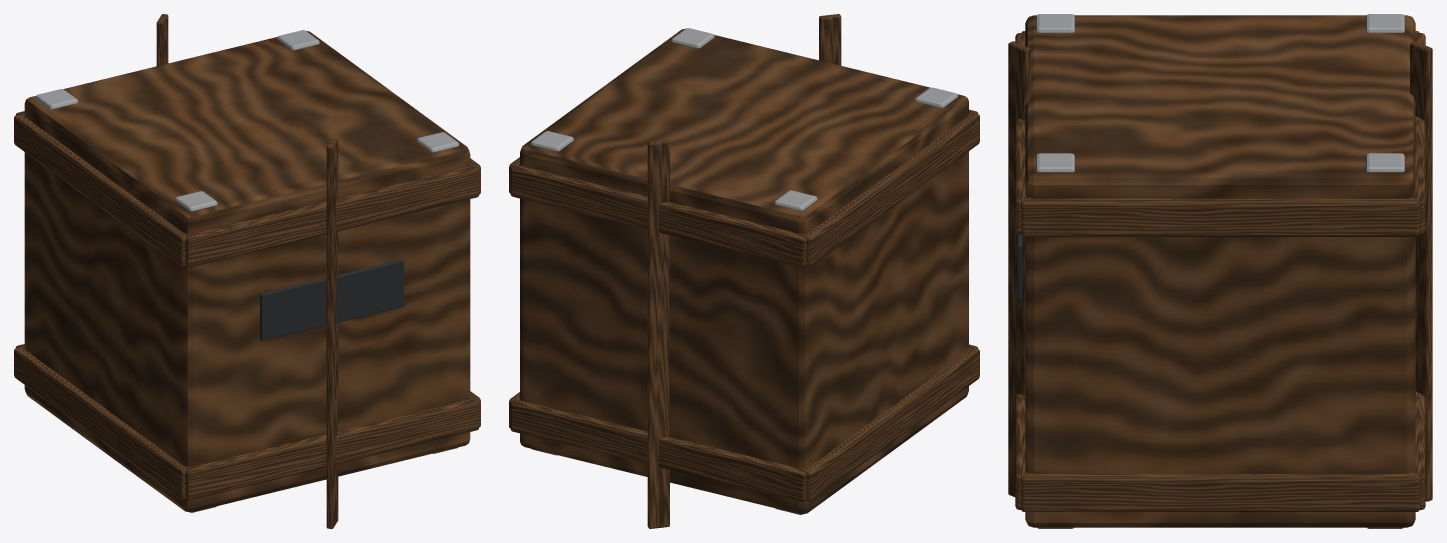
The model's file is crate.glb.
3 views of the same model, side by side, from view 1: azimuth 30°, elevation 25°; view 2: azimuth 150°, elevation 25°; view 3: azimuth 270°, elevation 25° (orthographic). The views are drawn at different scales.
Visible parts, largest first — view 1: Body, BattonX_-1_0.8, BattonX_-1_0.1, Stencil, BattonY_-1_0.1, BattonY_-1_0.8, Diagonal_-1, Diagonal_1, Corner_-0.38_-0.38, Corner_0.38_-0.38, Corner_-0.38_0.38, Corner_0.38_0.38; view 2: Body, BattonX_1_0.8, BattonX_1_0.1, Diagonal_1, BattonY_-1_0.8, BattonY_-1_0.1, Diagonal_-1, Corner_-0.38_0.38, Corner_0.38_0.38, Corner_-0.38_-0.38, Corner_0.38_-0.38; view 3: Body, BattonY_1_0.8, BattonY_1_0.1, Diagonal_1, Diagonal_-1, BattonX_-1_0.8, BattonX_1_0.8, BattonX_1_0.1, BattonX_-1_0.1, Corner_0.38_-0.38, Corner_0.38_0.38, Corner_-0.38_-0.38 (+1 smaller).
Part boxes in pixels (x1,y1,x2,y2): Body: [24, 31, 470, 512]; BattonX_-1_0.8: [185, 165, 479, 267]; BattonX_-1_0.1: [185, 398, 479, 500]; Stencil: [260, 259, 404, 341]; BattonY_-1_0.1: [14, 347, 187, 499]; BattonY_-1_0.8: [14, 114, 187, 266]; Diagonal_-1: [326, 138, 338, 528]; Diagonal_1: [156, 14, 168, 65]; Corner_-0.38_-0.38: [175, 191, 217, 512]; Corner_0.38_-0.38: [416, 132, 459, 453]; Corner_-0.38_0.38: [35, 89, 78, 109]; Corner_0.38_0.38: [277, 30, 319, 50]; Body: [520, 28, 968, 514]; BattonX_1_0.8: [510, 164, 806, 267]; BattonX_1_0.1: [510, 399, 806, 502]; Diagonal_1: [647, 139, 669, 528]; BattonY_-1_0.8: [804, 112, 979, 266]; BattonY_-1_0.1: [804, 348, 979, 501]; Diagonal_-1: [819, 14, 841, 65]; Corner_-0.38_0.38: [774, 190, 817, 514]; Corner_0.38_0.38: [530, 131, 573, 455]; Corner_-0.38_-0.38: [915, 87, 958, 107]; Corner_0.38_-0.38: [671, 28, 714, 48]; Body: [1025, 15, 1415, 527]; BattonY_1_0.8: [1021, 198, 1419, 236]; BattonY_1_0.1: [1021, 473, 1419, 511]; Diagonal_1: [1410, 41, 1432, 501]; Diagonal_-1: [1008, 41, 1030, 496]; BattonX_-1_0.8: [1015, 33, 1027, 234]; BattonX_1_0.8: [1413, 33, 1425, 234]; BattonX_1_0.1: [1413, 392, 1425, 509]; BattonX_-1_0.1: [1015, 393, 1027, 509]; Corner_0.38_-0.38: [1036, 153, 1074, 528]; Corner_0.38_0.38: [1366, 153, 1404, 528]; Corner_-0.38_-0.38: [1036, 14, 1074, 32].
Size of the model in its own units: 0.945 by 1.15 by 0.9786.
Materials: 3 (1 with a texture image).
